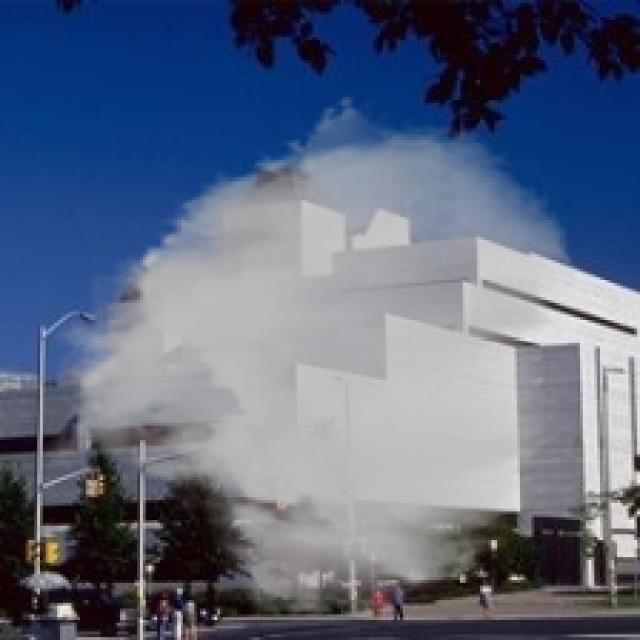smoke: (40, 94, 580, 623)
